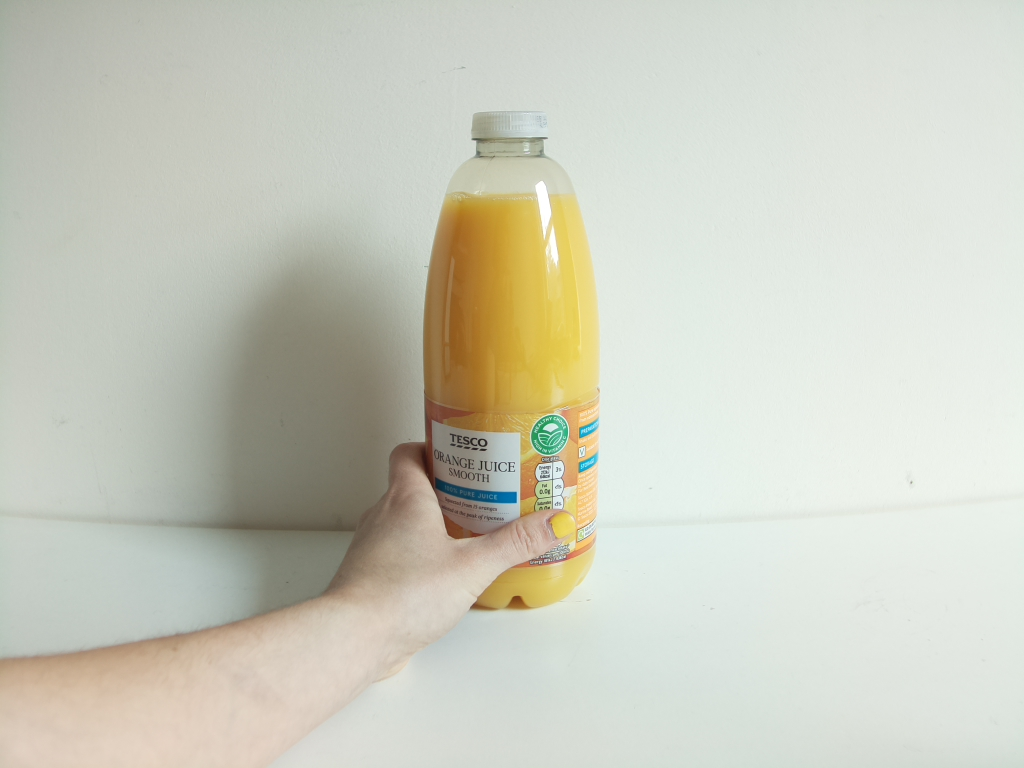juice: (417, 108, 596, 617)
